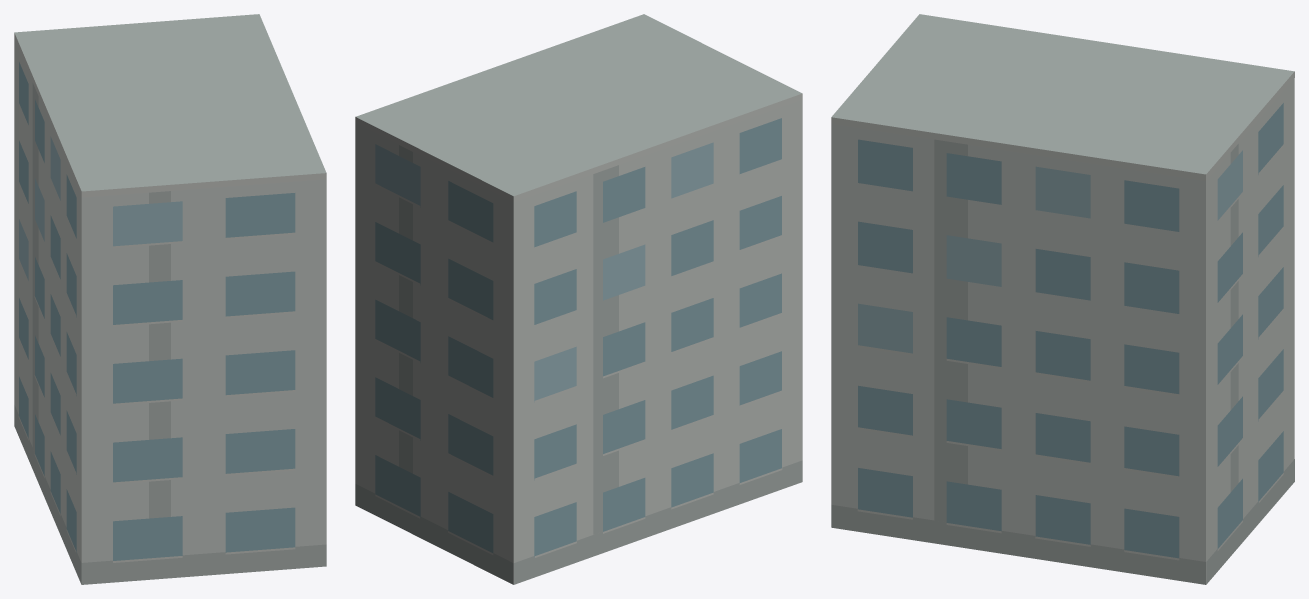
File: residential-ec01b83e-a401-4ae3-b819-e5f466e38b57.glb
3 renders of one model, left to right at view 1: azimuth 30°, elevation 25°; view 2: azimuth 150°, elevation 25°; view 3: azimuth 270°, elevation 25°, orthographic. The views are drawn at different scales.
Parts seen in each view (by area): view 1: residential-ec01b83e-a401-4ae3-b819-e5f466e38b57.tmp; view 2: residential-ec01b83e-a401-4ae3-b819-e5f466e38b57.tmp; view 3: residential-ec01b83e-a401-4ae3-b819-e5f466e38b57.tmp.
Boxes of the visible parts, left/top/right/bottom form: residential-ec01b83e-a401-4ae3-b819-e5f466e38b57.tmp: left=14, top=14, right=326, bottom=584; residential-ec01b83e-a401-4ae3-b819-e5f466e38b57.tmp: left=355, top=14, right=802, bottom=584; residential-ec01b83e-a401-4ae3-b819-e5f466e38b57.tmp: left=831, top=14, right=1294, bottom=584.
Bounding box in the file's own units: 12.8 × 15.25 × 15.62.
